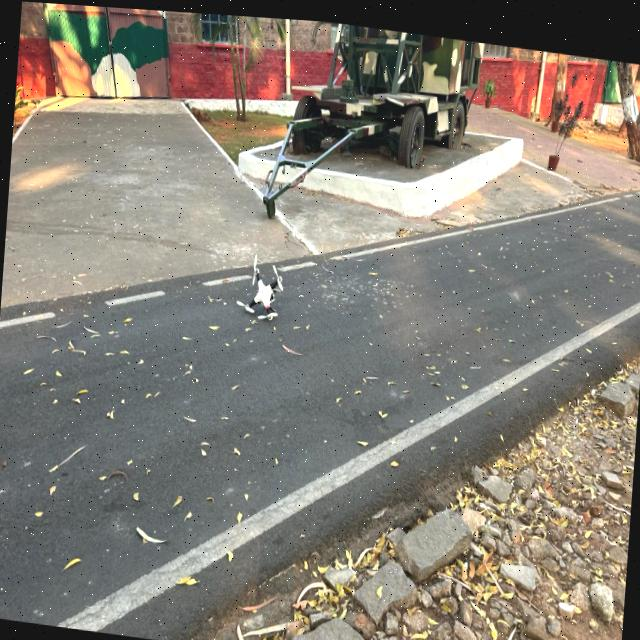drone: (210, 231, 318, 347)
